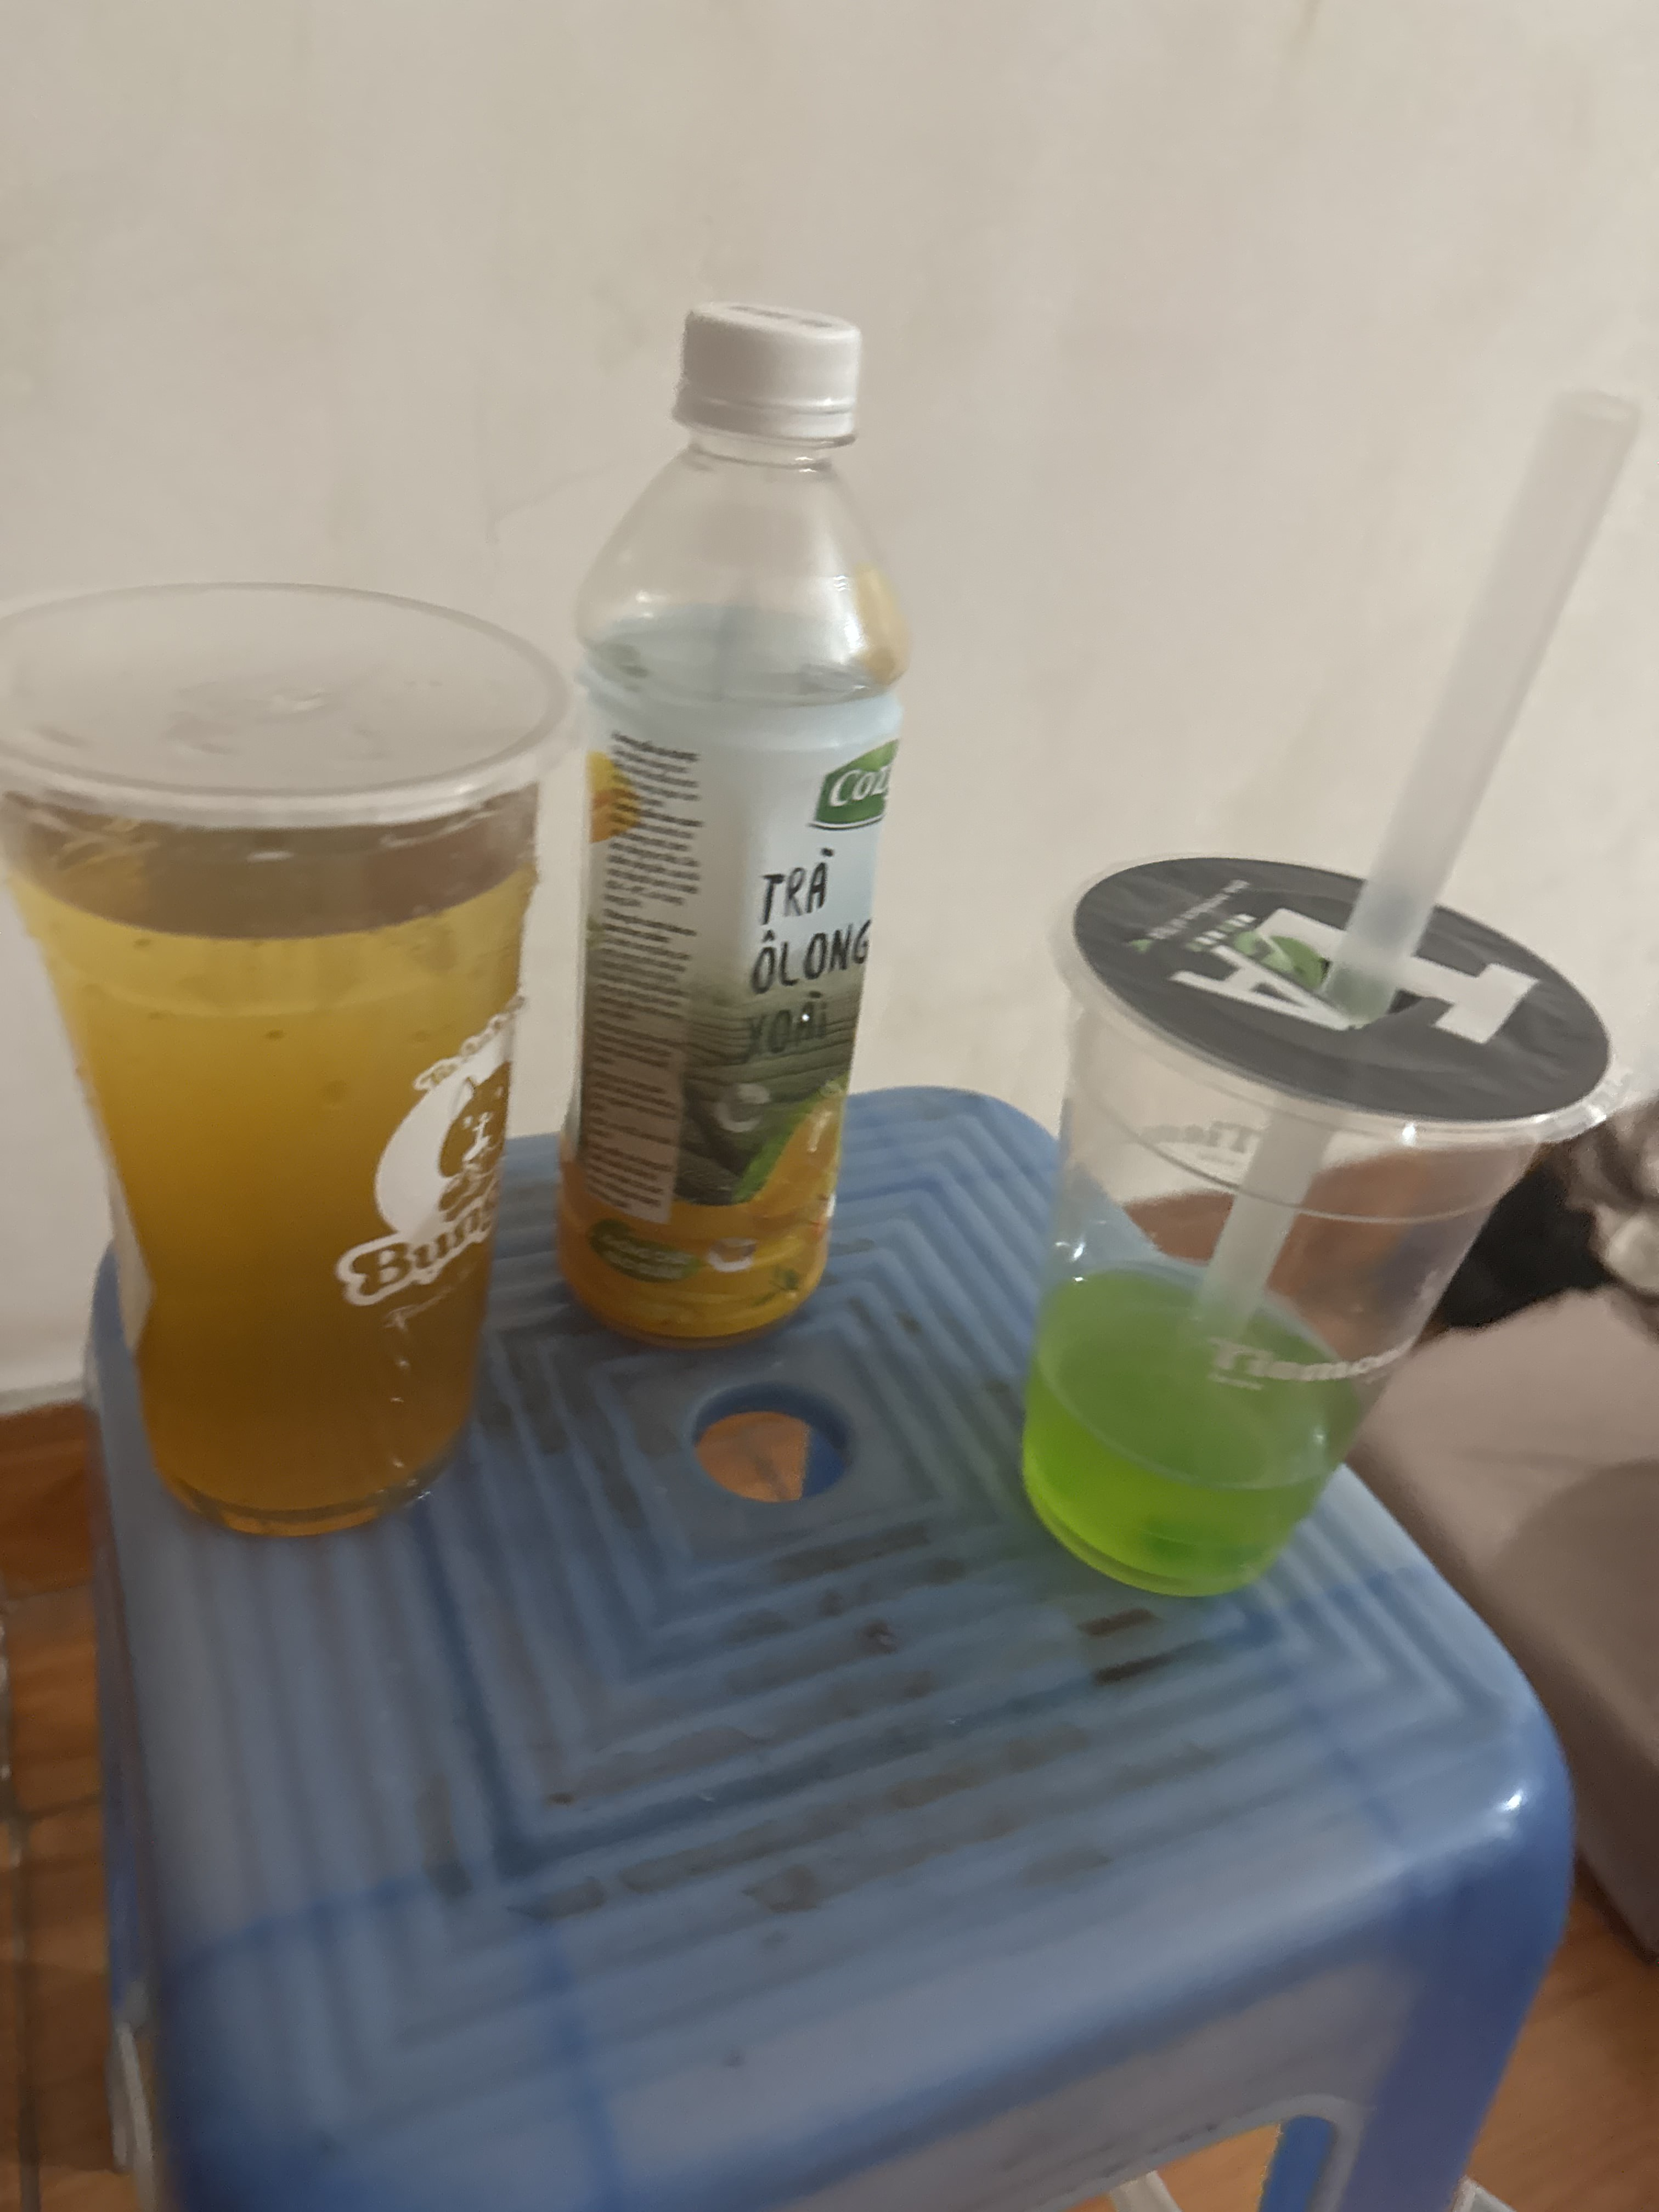bottle: (522, 278, 921, 1400)
cup: (1, 557, 567, 1580), (994, 824, 1624, 1667)
